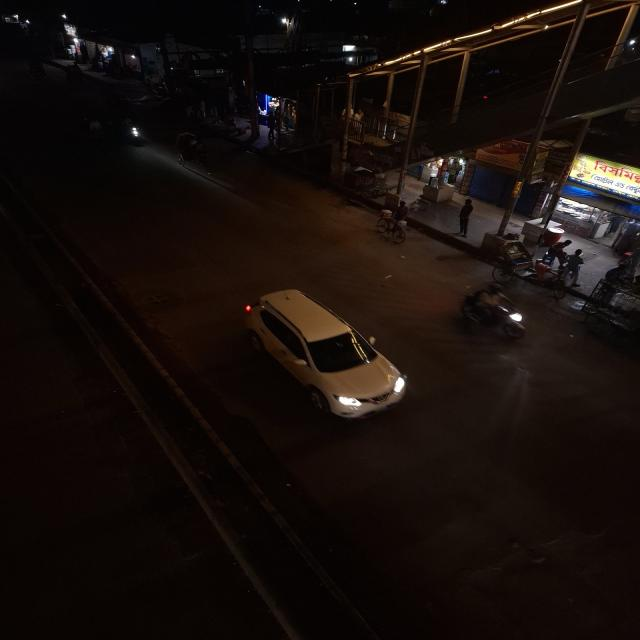bicycle: (371, 203, 413, 247)
car: (234, 284, 417, 430)
motorcycle: (456, 282, 533, 344), (115, 114, 148, 148)
rickshaw: (173, 130, 208, 160)
